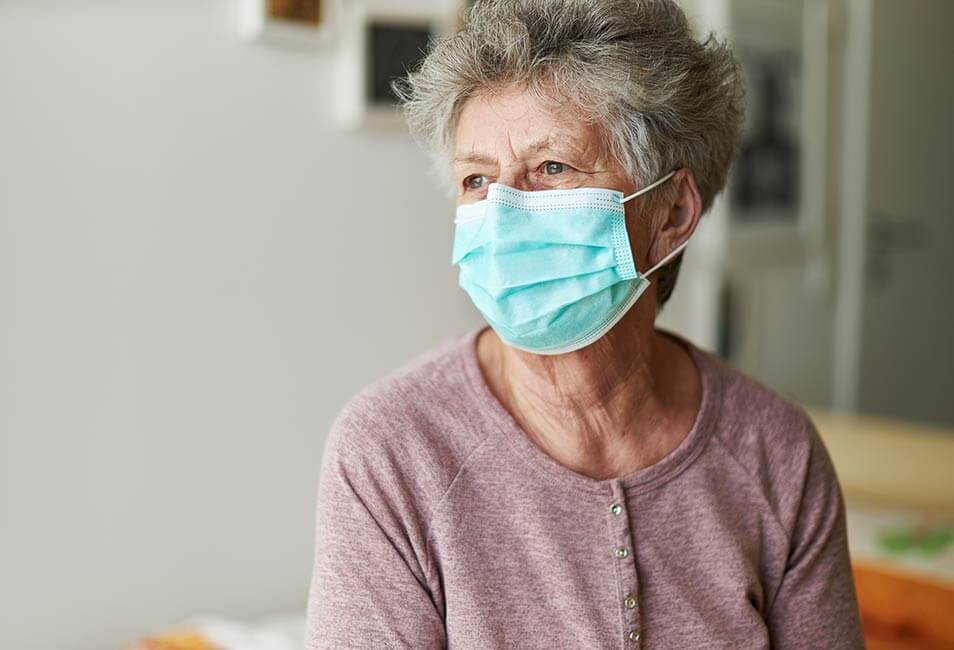with_mask: (438, 109, 643, 333)
